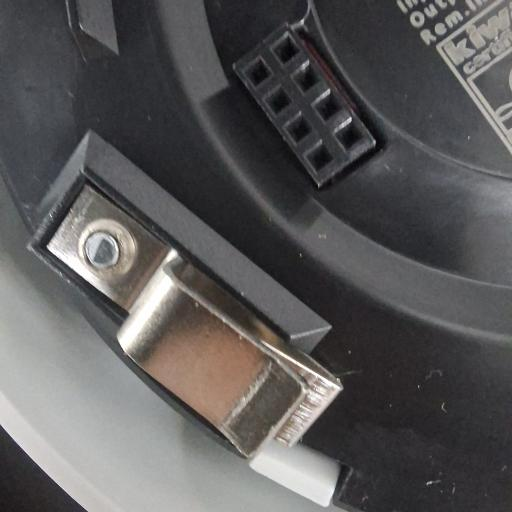yayli: (38, 175, 341, 460)
